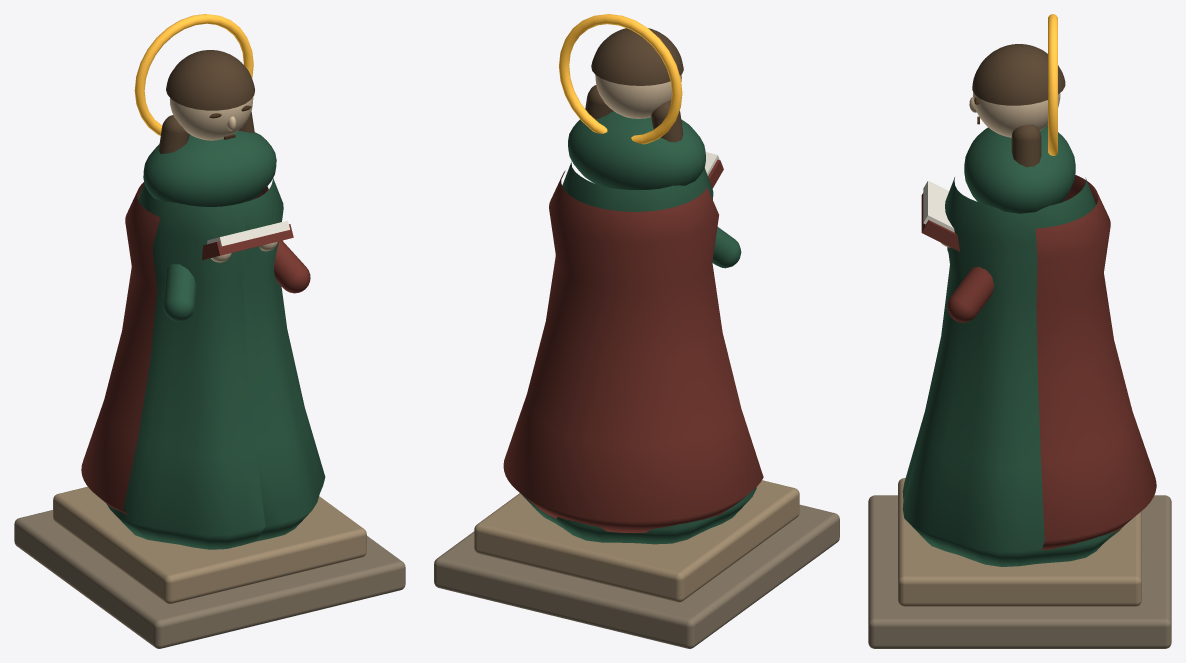
The model's file is statue-gioan.glb.
The picture shows the model from 3 angles, left to right: view 1: azimuth 30°, elevation 25°; view 2: azimuth 150°, elevation 25°; view 3: azimuth 270°, elevation 25°; orthographic projection. The views are drawn at different scales.
Visible parts, largest first — view 1: Robe, PlinthLow, PlinthTop, Cloak, Shoulders, Hair, Arm (×2), object 20, Head, BookCover, HairLock, BookPages; view 2: Cloak, PlinthLow, PlinthTop, Shoulders, Robe, object 20, Hair, Head, Arm, HairLock; view 3: Robe, Cloak, PlinthLow, PlinthTop, Shoulders, Hair, Head, Arm, object 20, HairLock, BookPages, BookCover.
Boxes of the visible parts, box(x1,y1,x2,y2) form: Robe: box(107, 178, 325, 549); PlinthLow: box(14, 510, 405, 648); PlinthTop: box(53, 486, 366, 603); Cloak: box(81, 182, 268, 515); Shoulders: box(143, 130, 276, 206); Hair: box(166, 50, 254, 110); Arm (×2): box(163, 240, 310, 321); object 20: box(134, 14, 253, 135); Head: box(170, 97, 253, 140); BookCover: box(202, 224, 293, 260); HairLock: box(158, 115, 189, 153); BookPages: box(207, 220, 289, 246); Cloak: box(503, 170, 763, 533); PlinthLow: box(434, 504, 839, 648); PlinthTop: box(474, 480, 799, 602); Shoulders: box(568, 111, 705, 189); Robe: box(522, 161, 756, 544); object 20: box(559, 14, 682, 144); Hair: box(591, 28, 683, 85); Head: box(595, 75, 681, 118); Arm: box(712, 227, 741, 268); HairLock: box(651, 100, 683, 142); Robe: box(902, 177, 1124, 566); Cloak: box(1035, 175, 1156, 549); PlinthLow: box(868, 495, 1171, 648); PlinthTop: box(898, 478, 1141, 606); Shoulders: box(964, 125, 1075, 213); Hair: box(972, 44, 1065, 105); Head: box(973, 92, 1060, 137); Arm: box(947, 266, 994, 322); object 20: box(1048, 14, 1057, 155); HairLock: box(1011, 124, 1041, 167); BookPages: box(923, 180, 954, 232); BookCover: box(921, 193, 959, 251).
Bounding box in the file's own units: 0.92 × 1.9 × 0.92.
